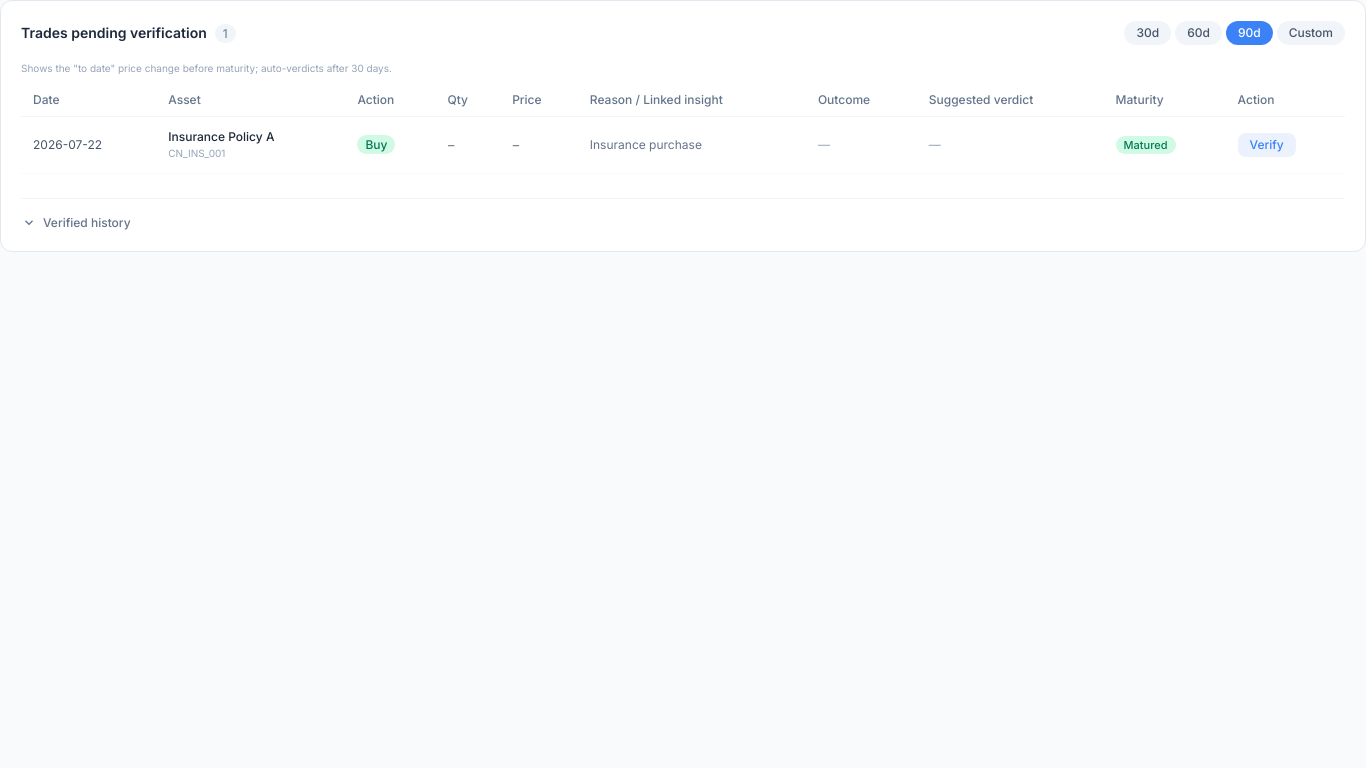
Test: PendingVerificationList › matured trade with no outcome data disables submit and requires a verdict
// Open modal for the no-data matured trade
Click the button "Verify" at (1267, 145), box top-left (1238, 133), bottom-right (1296, 157)
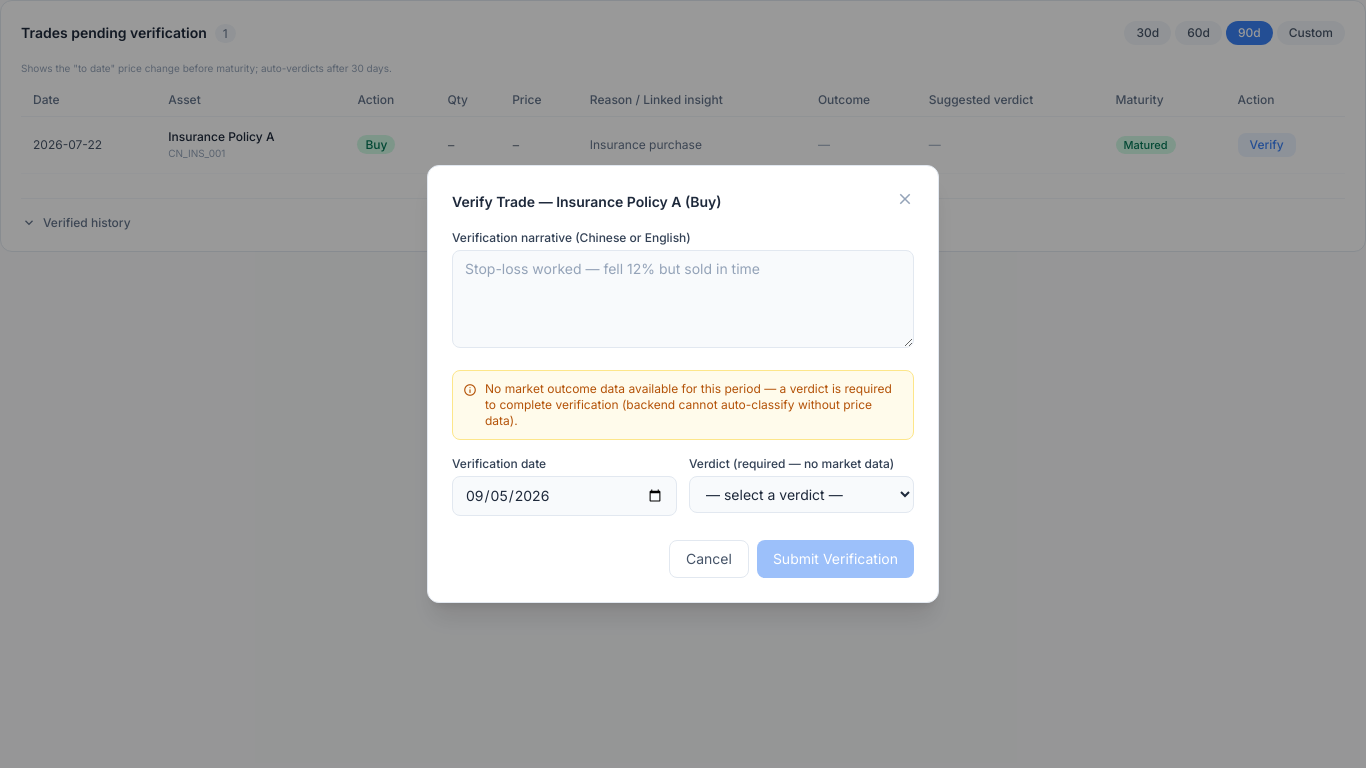
Check: the text "No market outcome data available" is shown, box top-left (485, 381), bottom-right (892, 428)
Check: the button "Submit Verification" is disabled, box top-left (757, 540), bottom-right (914, 578)
// Filling in narrative alone doesn't enable the submit button
Type "Insurance policy outcome" into the text box with placeholder "Stop-loss worked — fell 12% but sold in time" at (683, 299), box top-left (452, 250), bottom-right (914, 348)
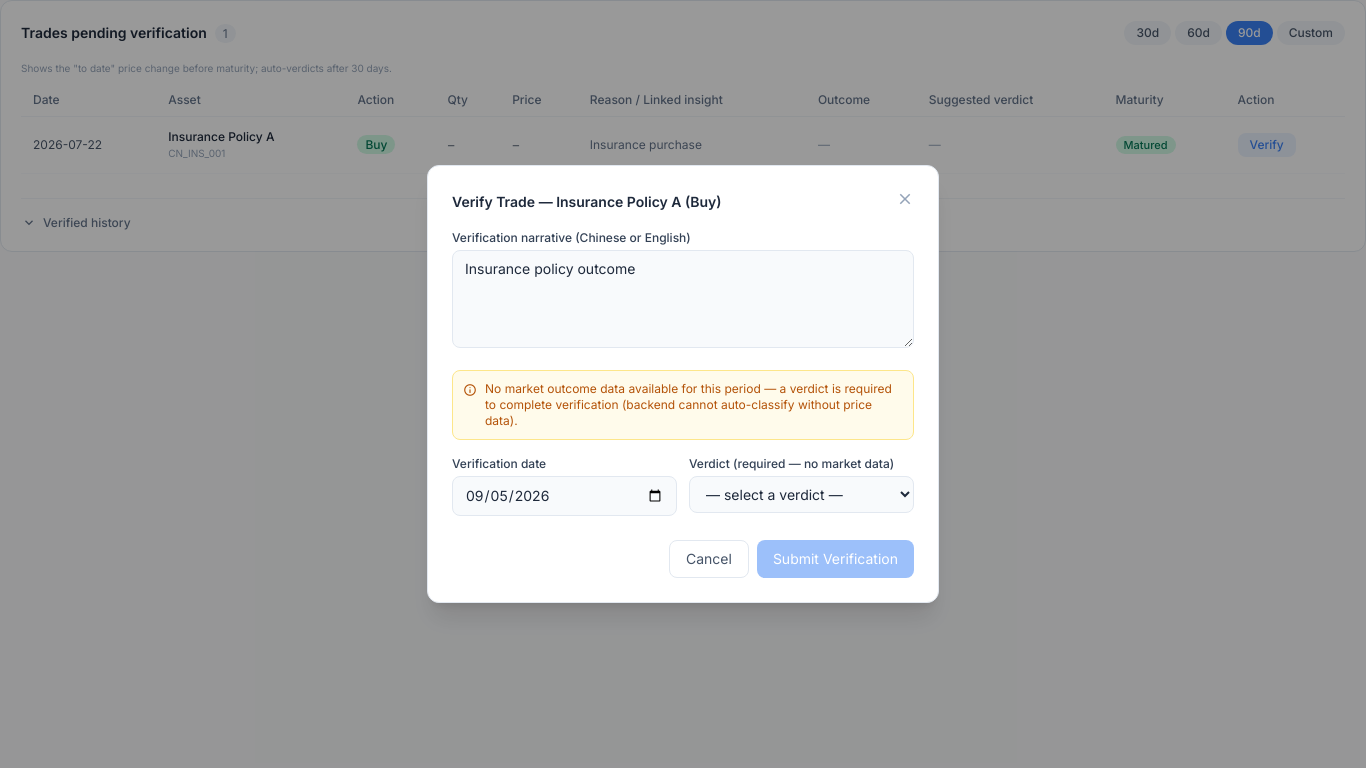
Check: the button "Submit Verification" is disabled, box top-left (757, 540), bottom-right (914, 578)
// Once the user picks a verdict, the submit button becomes enabled
Select "✅ Good Call" in the dropdown at (802, 494), box top-left (689, 476), bottom-right (914, 513)
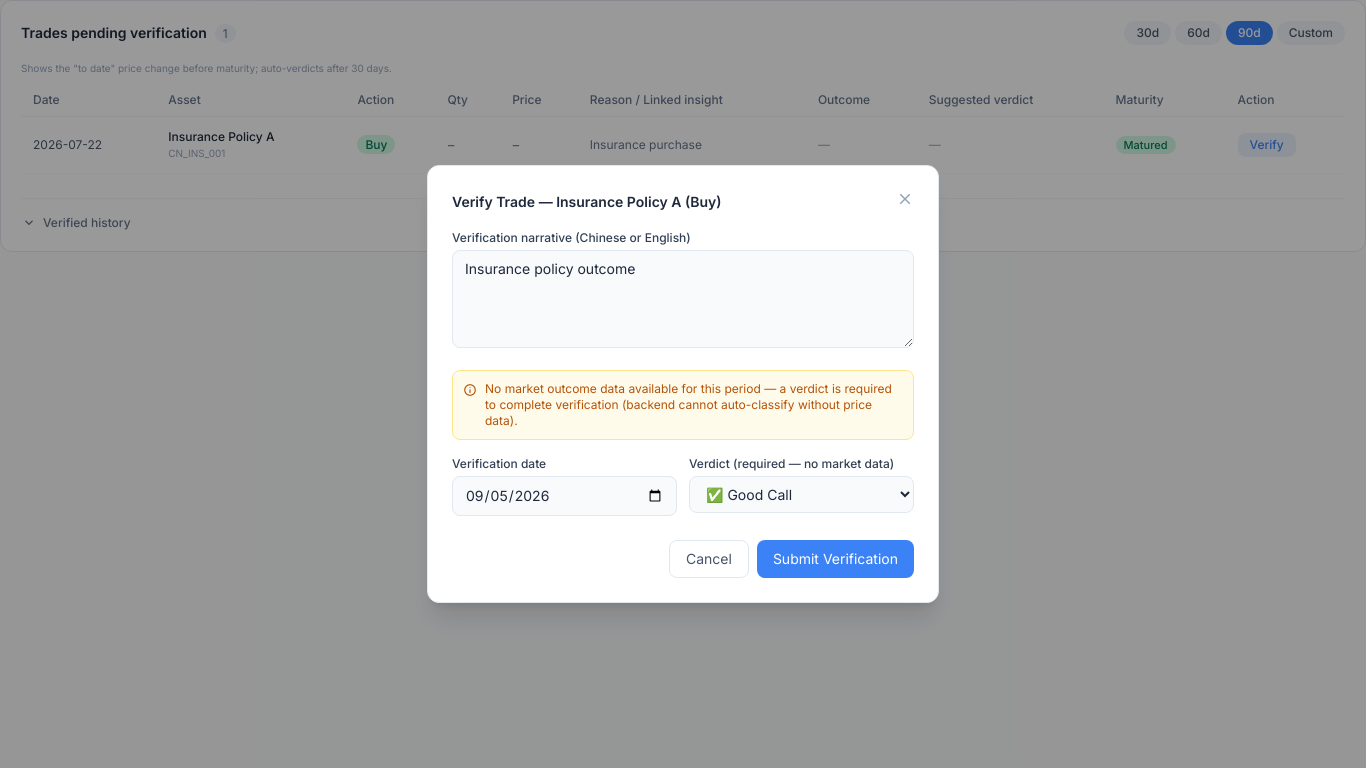
Check: the button "Submit Verification" is enabled, box top-left (757, 540), bottom-right (914, 578)
